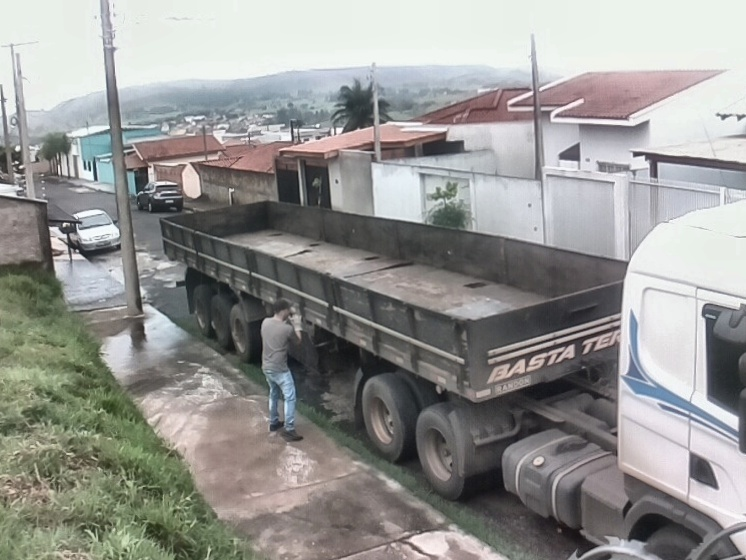person: (256, 299, 310, 444)
